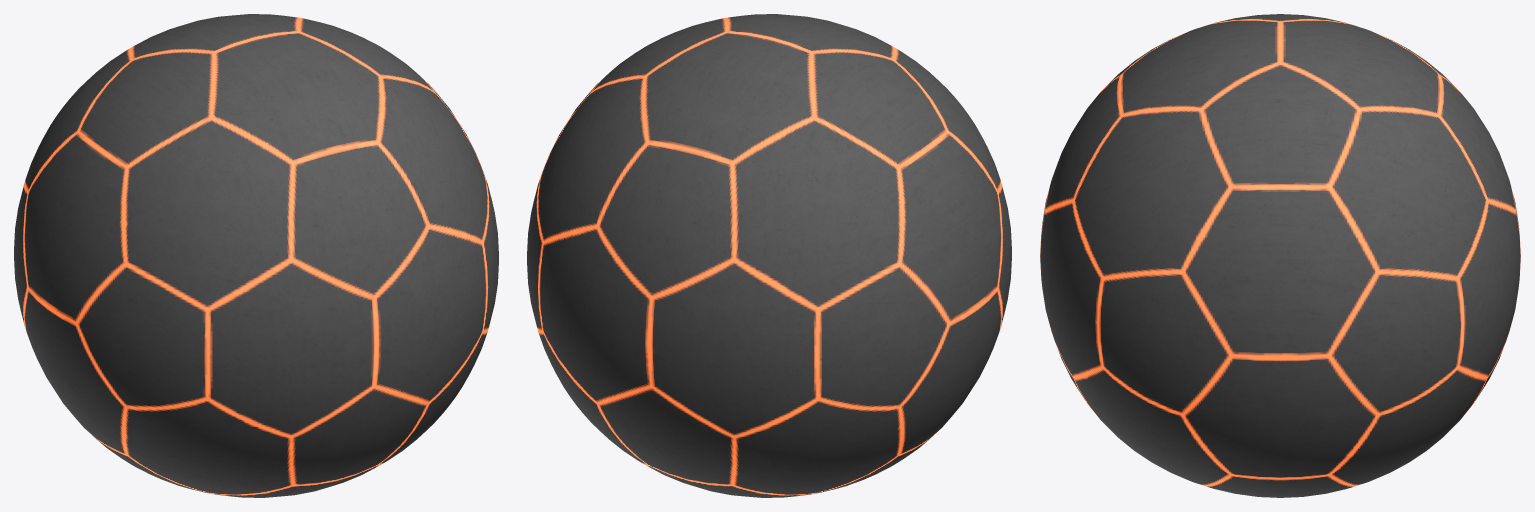
File: football3D.glb
3 renders of one model, left to right at view 1: azimuth 30°, elevation 25°; view 2: azimuth 150°, elevation 25°; view 3: azimuth 270°, elevation 25°, orthographic.
Parts seen in each view (by area): view 1: Sci-Fi Football_Sci-Fi Football_0.003, Sci-Fi Football, Sci-Fi Football_Sci-Fi Football_0.005, Sci-Fi Football_Sci-Fi Football_0.004, Sci-Fi Football_Sci-Fi Football_0.002; view 2: Sci-Fi Football_Sci-Fi Football_0.001, Sci-Fi Football, Sci-Fi Football_Sci-Fi Football_0.005, Sci-Fi Football_Sci-Fi Football_0.004, Sci-Fi Football_Sci-Fi Football_0.002; view 3: Sci-Fi Football_Sci-Fi Football_0.002, Sci-Fi Football_Sci-Fi Football_0.005, Sci-Fi Football_Sci-Fi Football_0.001, Sci-Fi Football_Sci-Fi Football_0.003, Sci-Fi Football_Sci-Fi Football_0.004.
Part boxes in pixels (left/top/right/bottom): Sci-Fi Football_Sci-Fi Football_0.003: left=193, top=149, right=491, bottom=480; Sci-Fi Football: left=14, top=106, right=204, bottom=468; Sci-Fi Football_Sci-Fi Football_0.005: left=64, top=14, right=448, bottom=209; Sci-Fi Football_Sci-Fi Football_0.004: left=110, top=435, right=421, bottom=497; Sci-Fi Football_Sci-Fi Football_0.002: left=417, top=73, right=498, bottom=366; Sci-Fi Football_Sci-Fi Football_0.001: left=534, top=149, right=832, bottom=480; Sci-Fi Football: left=821, top=106, right=1011, bottom=468; Sci-Fi Football_Sci-Fi Football_0.005: left=577, top=14, right=961, bottom=209; Sci-Fi Football_Sci-Fi Football_0.004: left=604, top=435, right=915, bottom=497; Sci-Fi Football_Sci-Fi Football_0.002: left=527, top=73, right=608, bottom=366; Sci-Fi Football_Sci-Fi Football_0.002: left=1108, top=172, right=1452, bottom=484; Sci-Fi Football_Sci-Fi Football_0.005: left=1108, top=14, right=1452, bottom=187; Sci-Fi Football_Sci-Fi Football_0.001: left=1421, top=79, right=1520, bottom=443; Sci-Fi Football_Sci-Fi Football_0.003: left=1040, top=79, right=1139, bottom=443; Sci-Fi Football_Sci-Fi Football_0.004: left=1120, top=439, right=1440, bottom=497.
Size of the model in its own units: 0.2512 by 0.2512 by 0.2512.
Materials: 2 (1 with a texture image).
